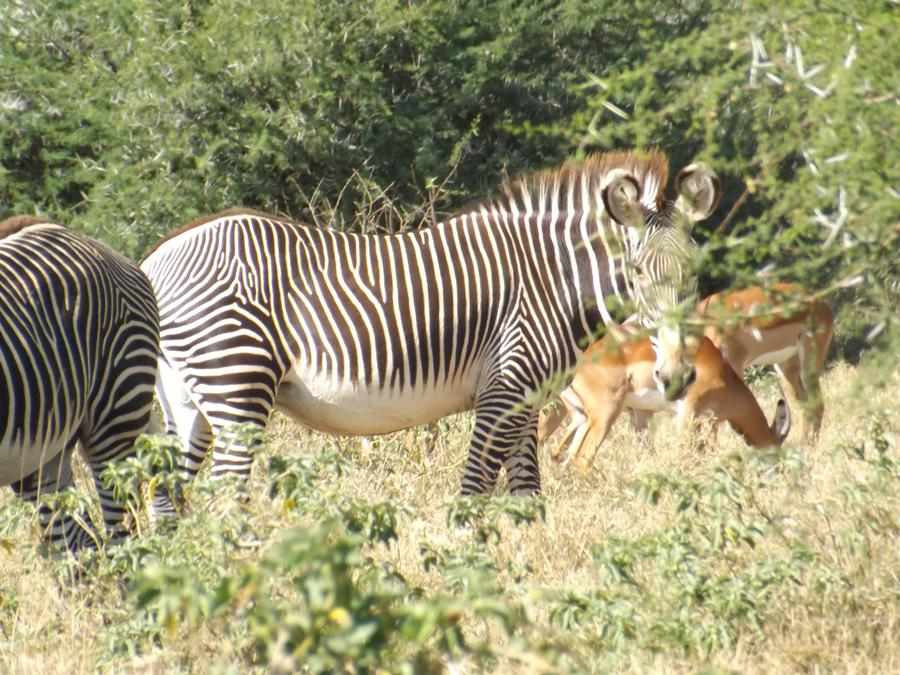zebra_grevys: (140, 199, 538, 410)
